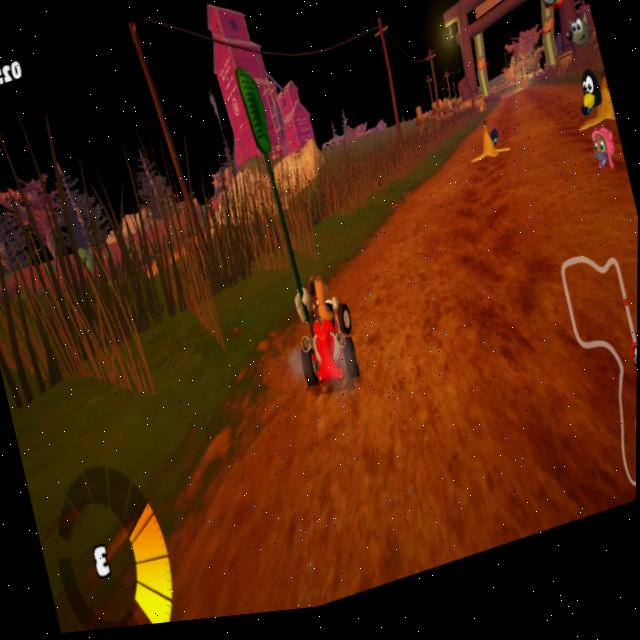obstacle: (464, 132, 513, 184)
off_track: (0, 124, 391, 366)
player_kart: (281, 269, 372, 408)
track: (381, 162, 639, 528), (491, 87, 557, 129)
